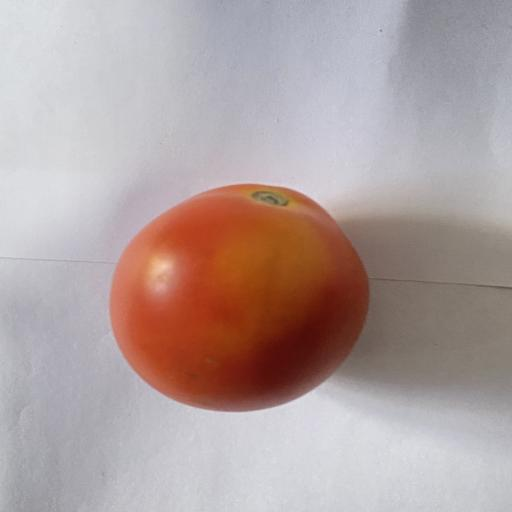ripe: (110, 184, 368, 411)
